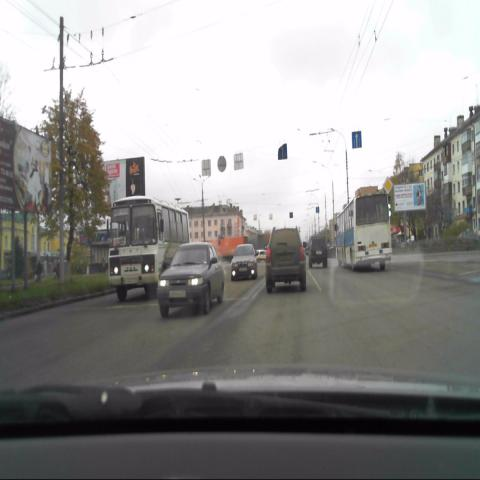2_1: (382, 175, 393, 194)
5_15_2: (352, 132, 361, 149), (278, 144, 287, 158)
